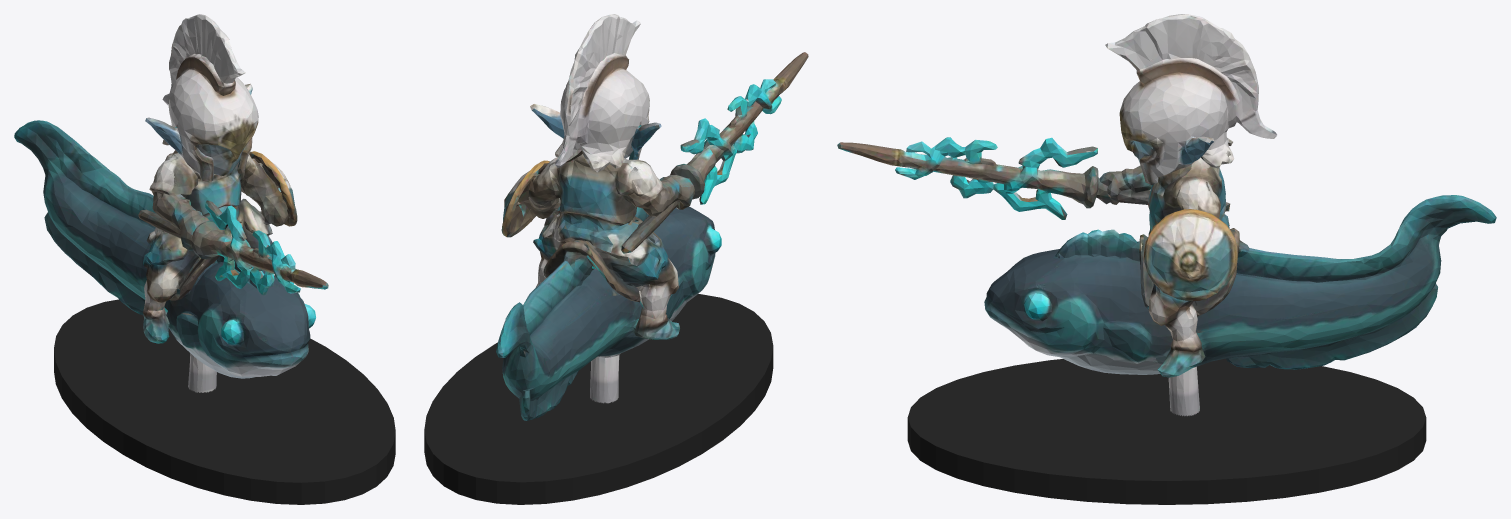
Rendered from idk-morrsarr-guard.glb.
3 views of the same model, side by side, from view 1: azimuth 30°, elevation 25°; view 2: azimuth 150°, elevation 25°; view 3: azimuth 270°, elevation 25° (orthographic). The views are drawn at different scales.
Visible parts, largest first — view 1: figure, base; view 2: figure, base; view 3: figure, base.
Boxes of the visible parts, left/top/right/bottom form: figure: left=14, top=14, right=328, bottom=392; base: left=54, top=299, right=395, bottom=504; figure: left=496, top=14, right=808, bottom=420; base: left=424, top=294, right=773, bottom=504; figure: left=837, top=14, right=1496, bottom=416; base: left=907, top=358, right=1426, bottom=504.
Size of the model in its own units: 1.38 by 2.12 by 3.01.
Materials: 2 (1 with a texture image).
